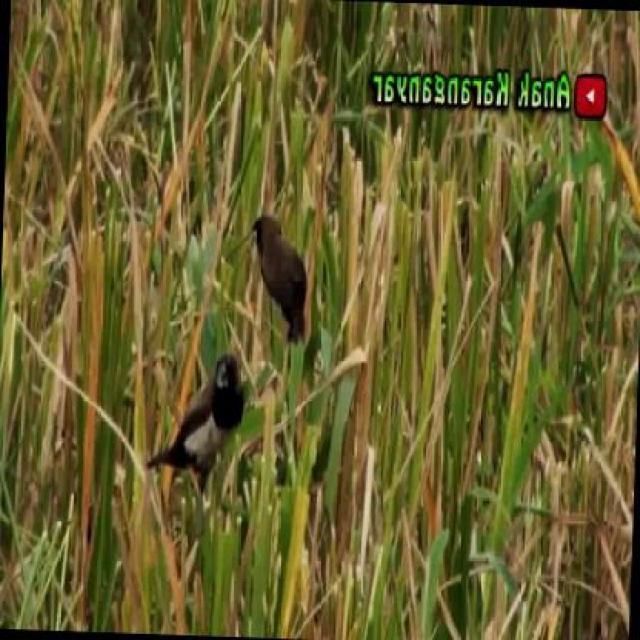Bird: (143, 335, 248, 497), (239, 204, 316, 355)
